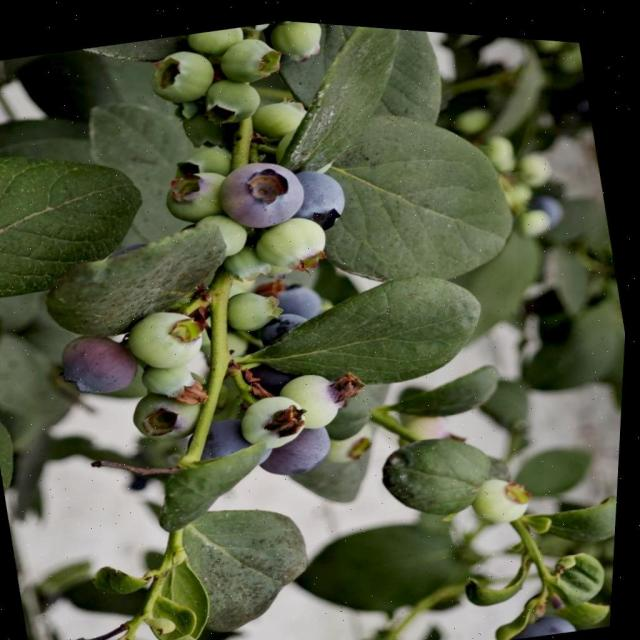RipeBlueBerry: (262, 407, 345, 486), (286, 139, 356, 232)
Semi-RipeBlueBerry: (46, 310, 152, 406), (210, 138, 308, 235)
UnripeBlueBerry: (124, 290, 228, 377), (284, 350, 382, 435), (123, 29, 224, 111), (468, 446, 542, 531)
